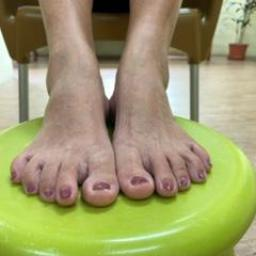Front View -Both Feet-: (3, 34, 236, 219)
